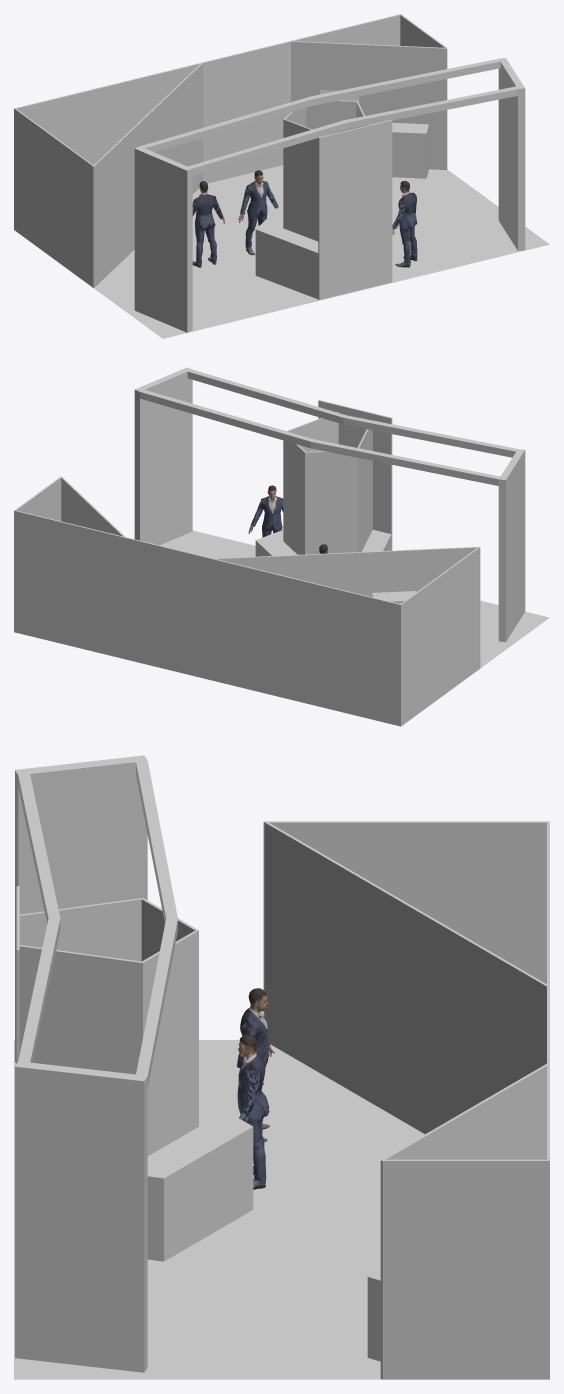
Rendered from labelforum26studya.glb.
3 views of the same model, one above another, from view 1: azimuth 30°, elevation 25°; view 2: azimuth 150°, elevation 25°; view 3: azimuth 270°, elevation 25° (orthographic). The views are drawn at different scales.
Visible parts, largest first — view 1: floor.006, Cylinder.006, Cube.082, Cube.081, Cube.092, Plane.017, Plane.014, Plane.016, Cube.086, Cylinder.002, Cylinder.005, Cube.085 (+8 smaller); view 2: Plane.016, Plane.015, Plane.014, Cube.081, Cube.085, Cube.086, Plane.017, Cylinder.004, Cube.082, floor.006, Cylinder.006, Cylinder.007 (+6 smaller); view 3: floor.006, Plane.017, Cube.068, Cube.079, Cube.081, Cube.082, Cylinder.003, Cylinder.002, Cylinder.007, Cube.086, Cube.092, Cylinder.005 (+6 smaller).
Boxes of the visible parts, left/top/right/bottom form: floor.006: left=94, top=165, right=549, bottom=338; Cylinder.006: left=318, top=119, right=392, bottom=299; Cube.082: left=134, top=146, right=192, bottom=332; Cube.081: left=15, top=108, right=94, bottom=287; Cube.092: left=291, top=41, right=447, bottom=169; Plane.017: left=92, top=63, right=202, bottom=287; Plane.014: left=205, top=41, right=290, bottom=183; Plane.016: left=14, top=62, right=205, bottom=230; Cube.086: left=140, top=59, right=517, bottom=174; Cylinder.002: left=255, top=203, right=318, bottom=299; Cylinder.005: left=283, top=119, right=318, bottom=241; Cube.085: left=498, top=62, right=517, bottom=250; Plane.016: left=210, top=558, right=401, bottom=726; Plane.015: left=14, top=510, right=125, bottom=659; Plane.014: left=125, top=537, right=210, bottom=679; Cube.081: left=400, top=547, right=479, bottom=725; Cube.085: left=134, top=371, right=192, bottom=545; Cube.086: left=140, top=369, right=517, bottom=485; Plane.017: left=215, top=546, right=480, bottom=668; Cylinder.004: left=305, top=451, right=357, bottom=554; Cube.082: left=498, top=449, right=525, bottom=642; floor.006: left=160, top=530, right=549, bottom=668; Cylinder.006: left=318, top=400, right=392, bottom=550; Cylinder.007: left=283, top=440, right=306, bottom=554; floor.006: left=14, top=1040, right=424, bottom=1379; Plane.017: left=263, top=821, right=548, bottom=1134; Cube.068: left=15, top=1061, right=147, bottom=1372; Cube.079: left=383, top=1159, right=546, bottom=1379; Cube.081: left=264, top=821, right=546, bottom=1016; Cube.082: left=15, top=755, right=147, bottom=1063; Cylinder.003: left=19, top=945, right=143, bottom=1074; Cylinder.002: left=147, top=1095, right=253, bottom=1261; Cylinder.007: left=142, top=929, right=198, bottom=1155; Cube.086: left=18, top=761, right=177, bottom=1087; Cube.092: left=380, top=1063, right=546, bottom=1379; Cylinder.005: left=19, top=898, right=143, bottom=961.
Size of the model in its own units: 9.01 by 3.64 by 6.
1 material, 1 textured.
